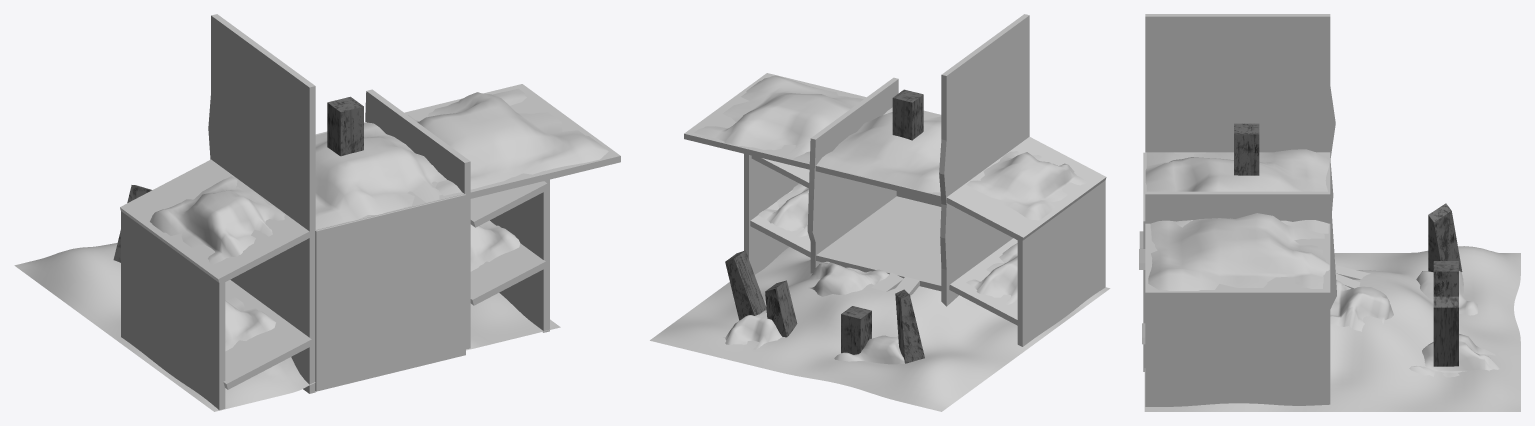
The model's file is Main building.fbx.
3 views of the same model, side by side, from view 1: azimuth 30°, elevation 25°; view 2: azimuth 150°, elevation 25°; view 3: azimuth 270°, elevation 25° (orthographic). The views are drawn at different scales.
Visible parts, largest first — view 1: pCube42; view 2: pCube42; view 3: pCube42.
Part boxes in pixels (x1,y1,x2,y2): pCube42: [14, 14, 620, 411]; pCube42: [650, 14, 1110, 411]; pCube42: [1139, 14, 1520, 411].
Size of the model in its own units: 310 by 223 by 268.
